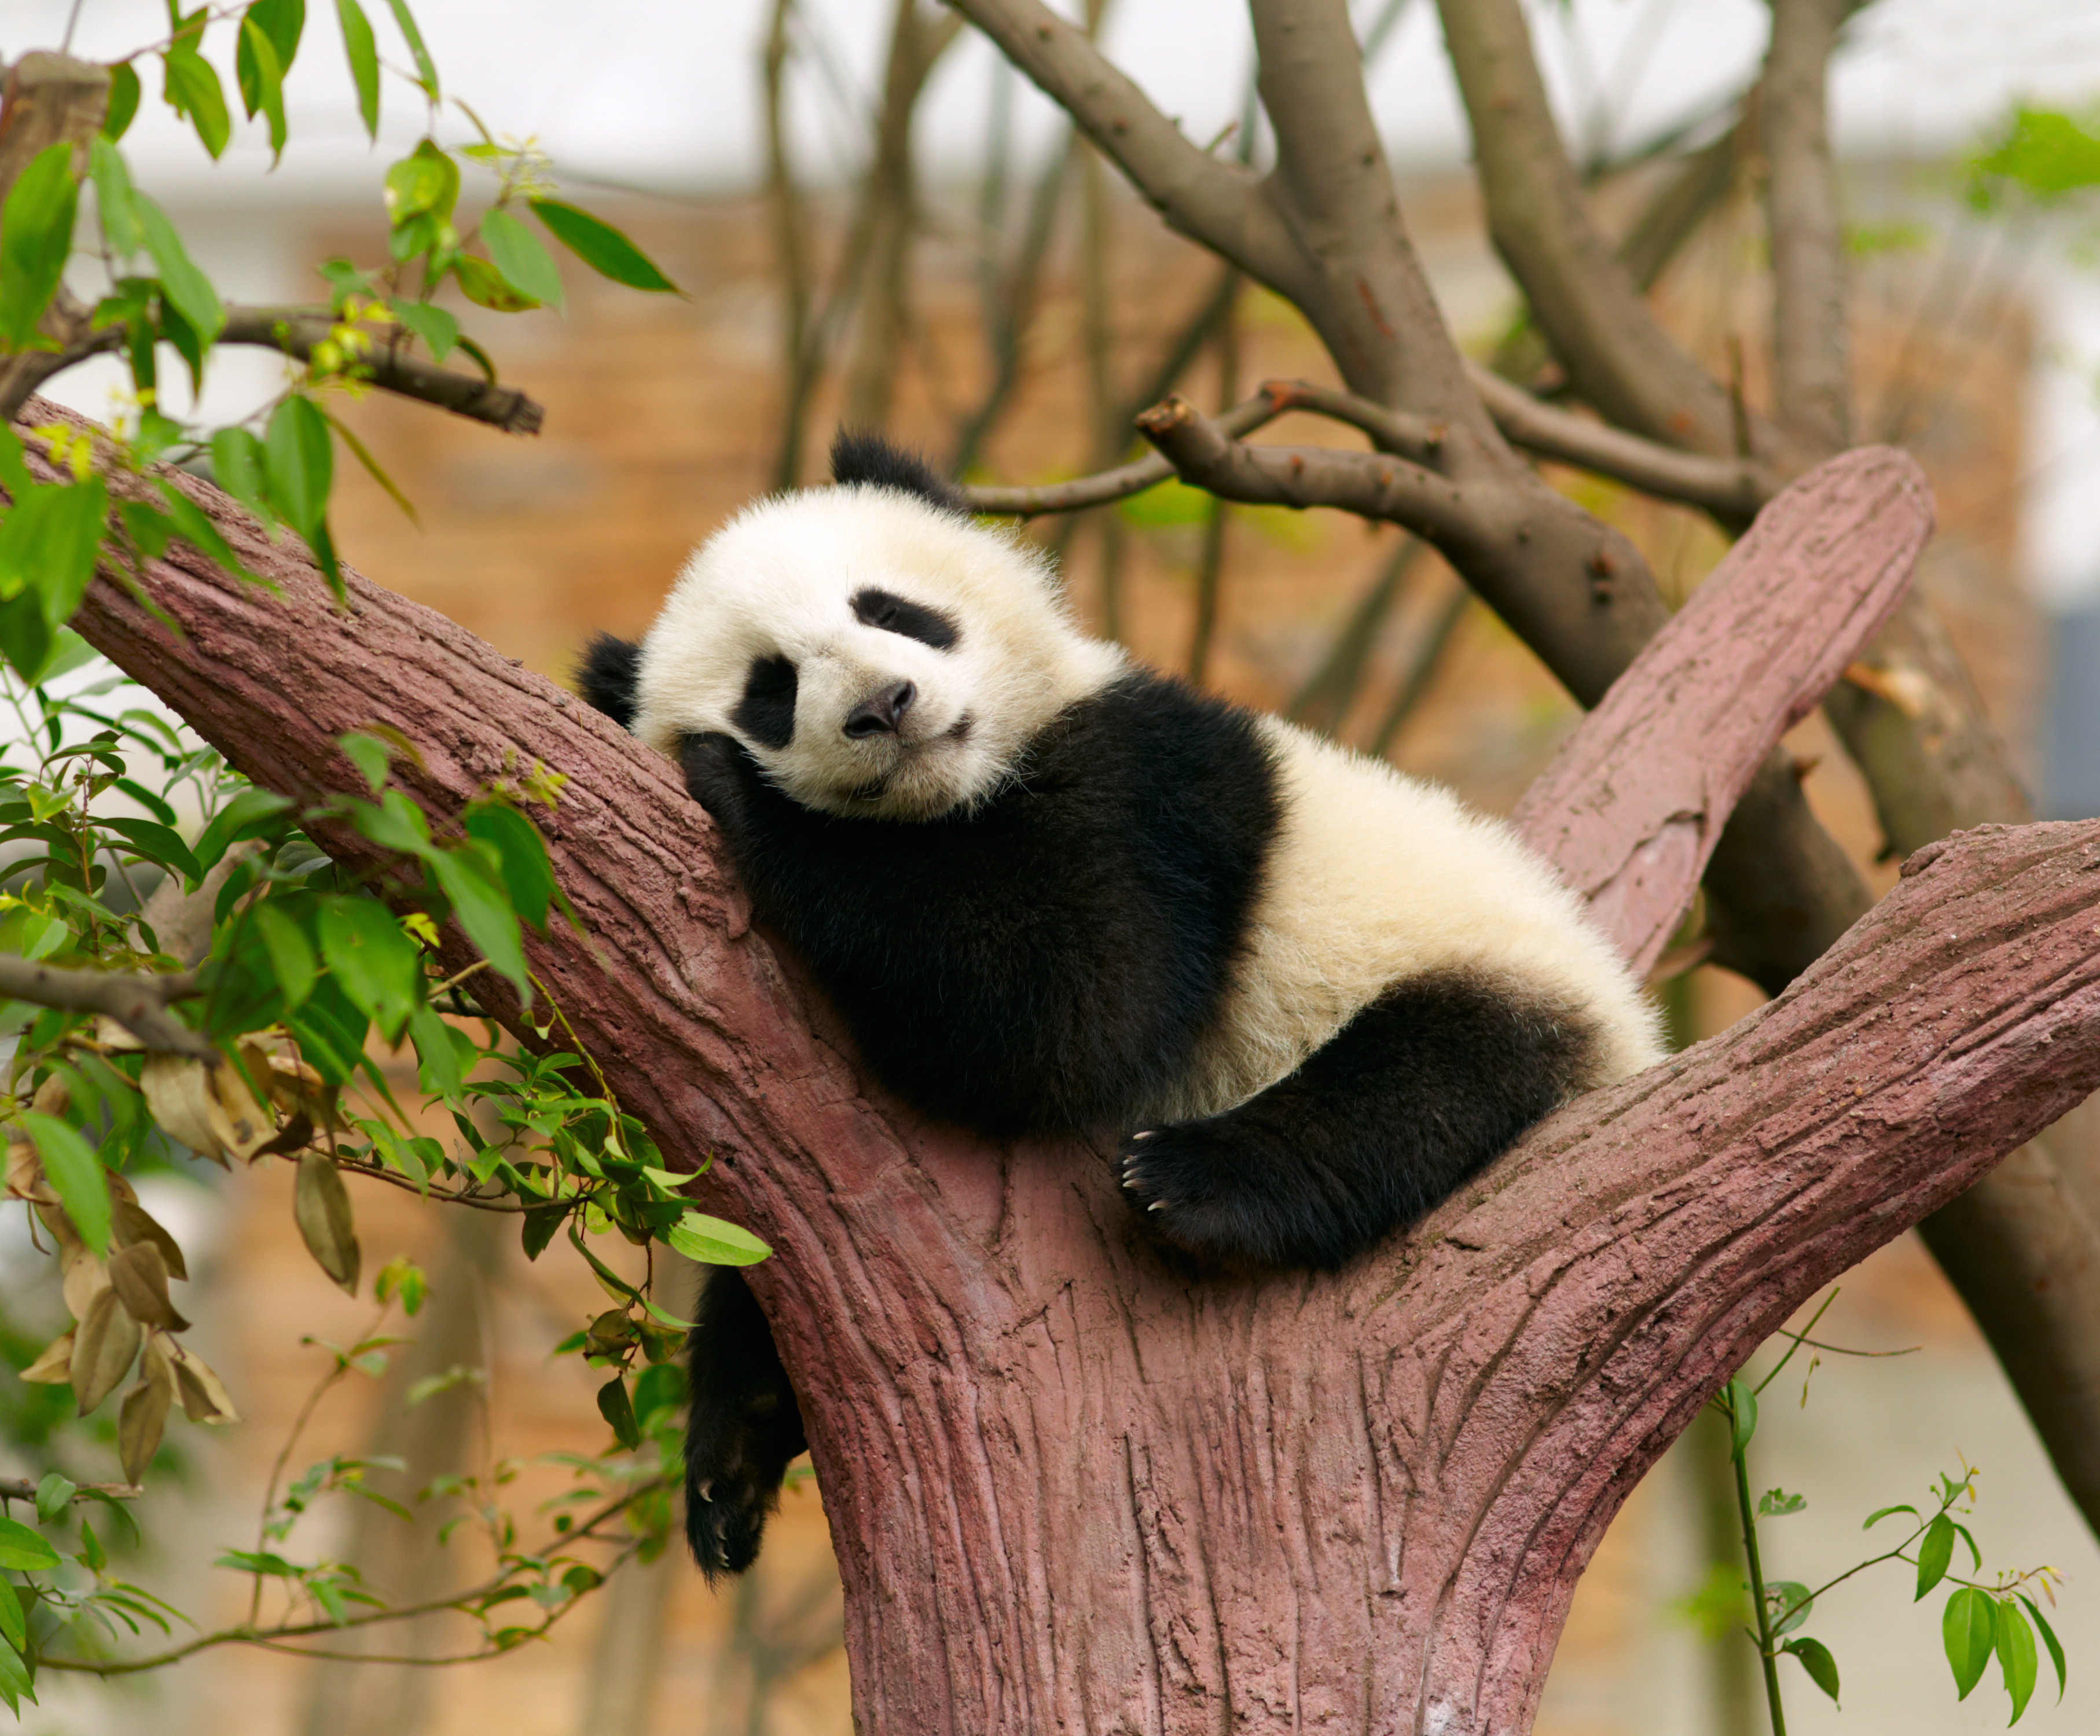panda: (480, 457, 1669, 1506)
